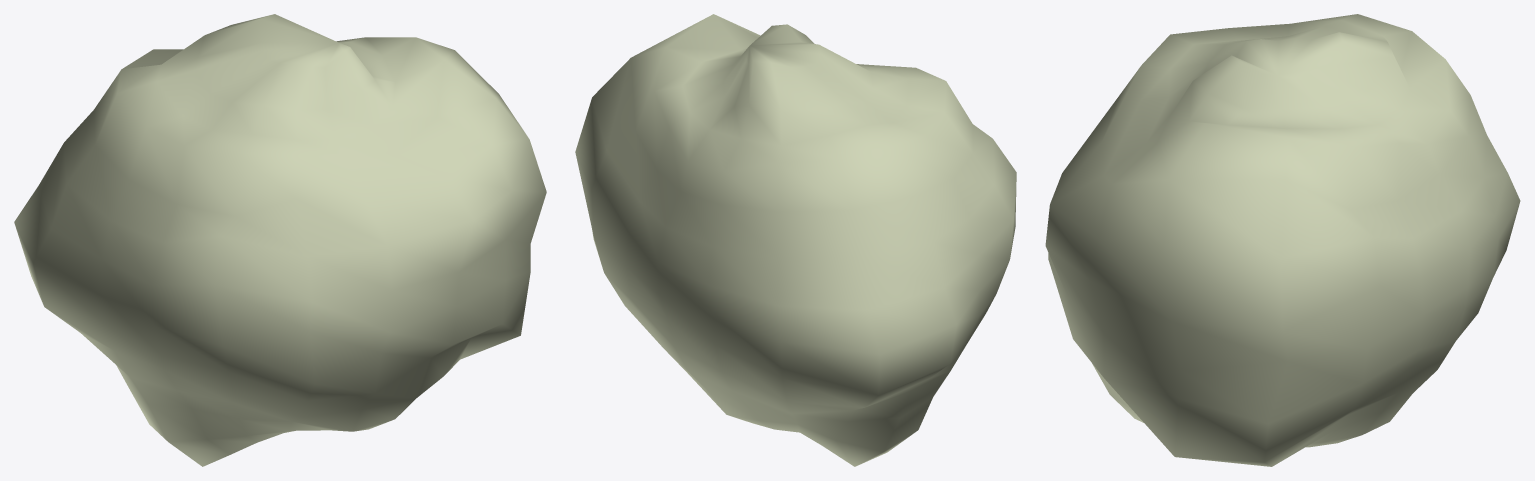
Rendered from mAsteroid2.obj.
3 renders of one model, left to right at view 1: azimuth 30°, elevation 25°; view 2: azimuth 150°, elevation 25°; view 3: azimuth 270°, elevation 25°, orthographic. The views are drawn at different scales.
Parts seen in each view (by area): view 1: sphere2; view 2: sphere2; view 3: sphere2.
Boxes of the visible parts, x1=… form: sphere2: x1=14, y1=14, x2=546, y2=466; sphere2: x1=575, y1=14, x2=1016, y2=466; sphere2: x1=1045, y1=14, x2=1520, y2=466.
Size of the model in its own units: 6.61 by 5.84 by 5.79.
